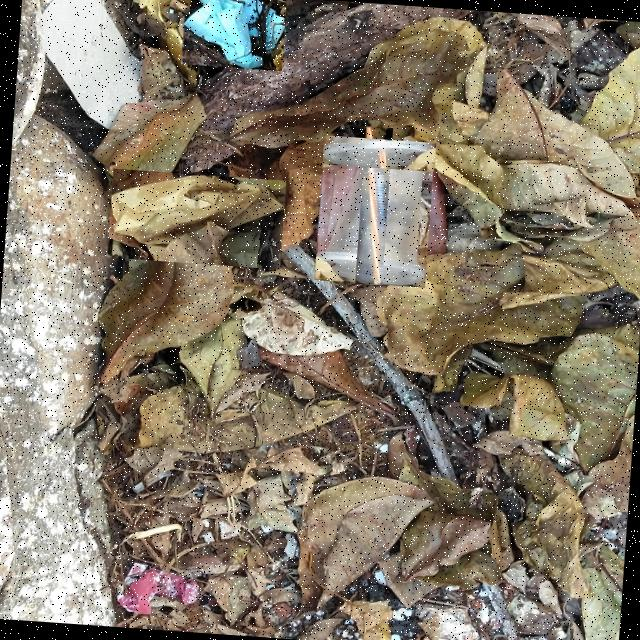Cigarette: (170, 0, 190, 14)
Disposable plastic cup: (317, 140, 426, 285)
Normal paper: (184, 0, 285, 69)
Other carton: (42, 0, 142, 129)
Paper bag: (111, 175, 283, 260)
Plastic lid: (324, 142, 434, 168)
Plastic straw: (366, 127, 382, 284)
Tissues: (115, 563, 199, 614)
